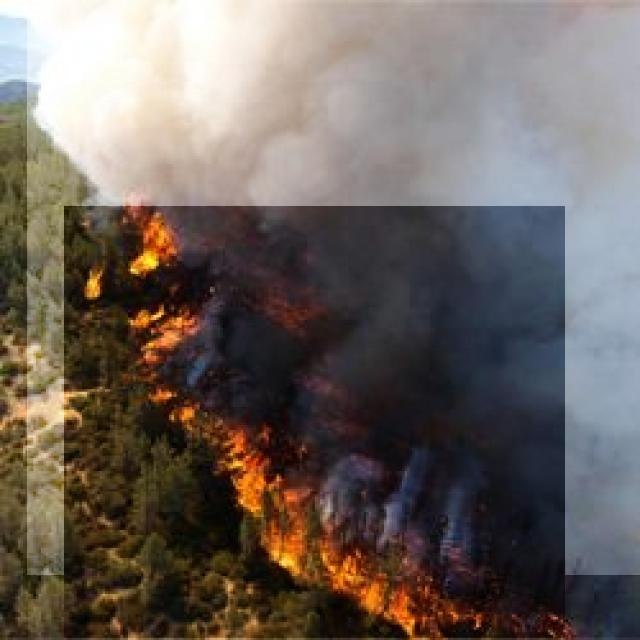Fire: (64, 206, 565, 638)
Smoke: (27, 0, 640, 575)
